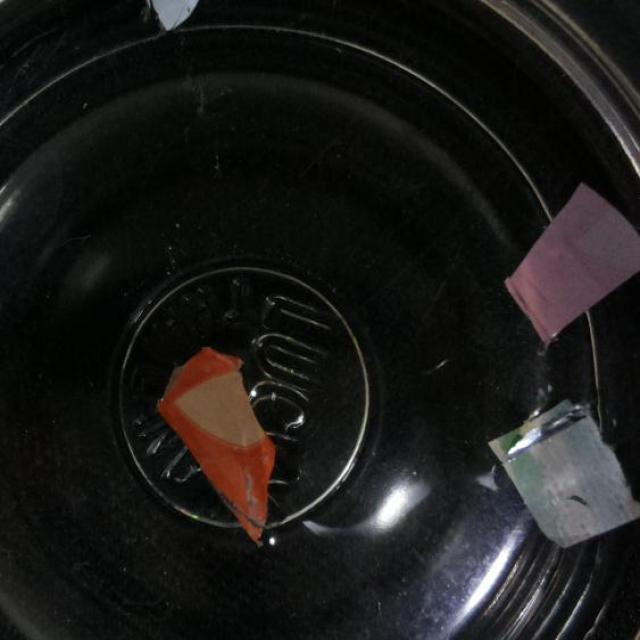fiber: (155, 346, 295, 550), (500, 182, 640, 345), (491, 396, 640, 549), (141, 0, 218, 37)
